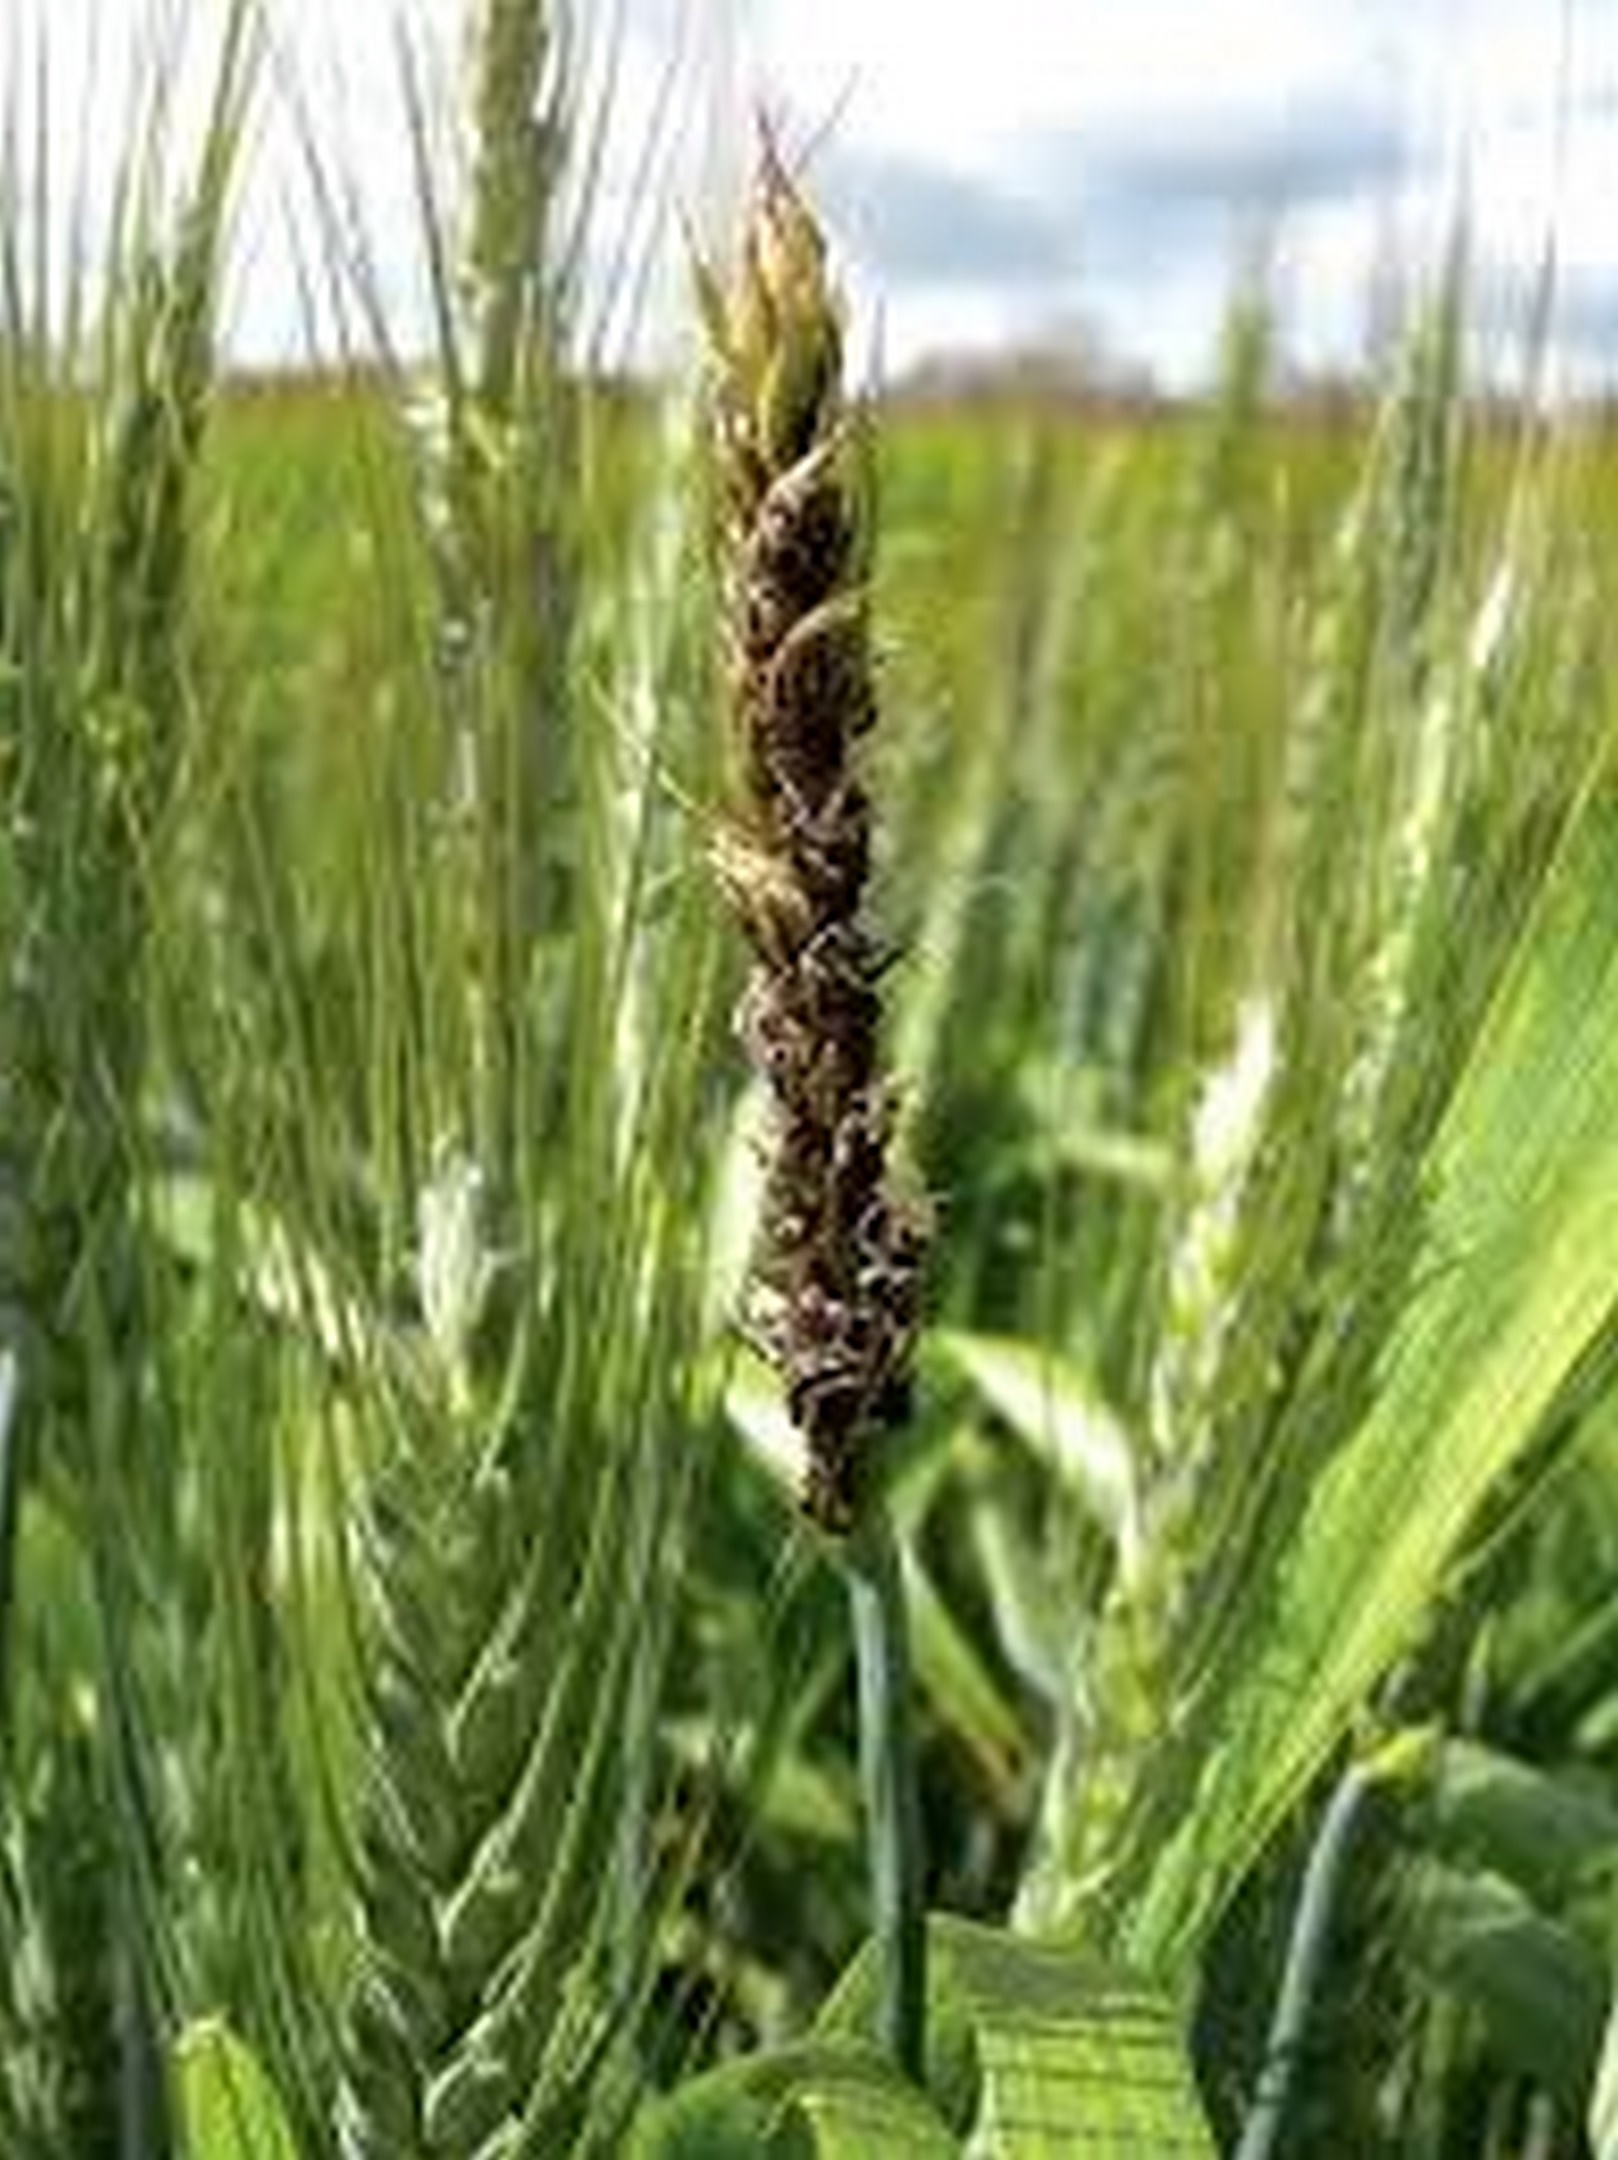Wheat Loose Smut: (665, 180, 1021, 1383)
